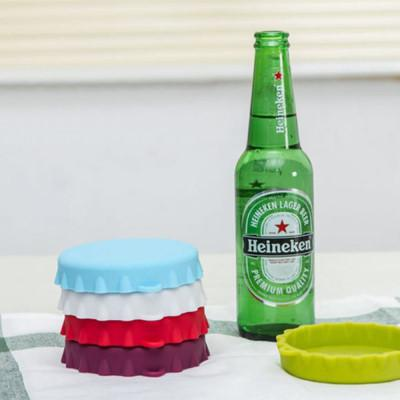beer: (231, 30, 321, 343)
